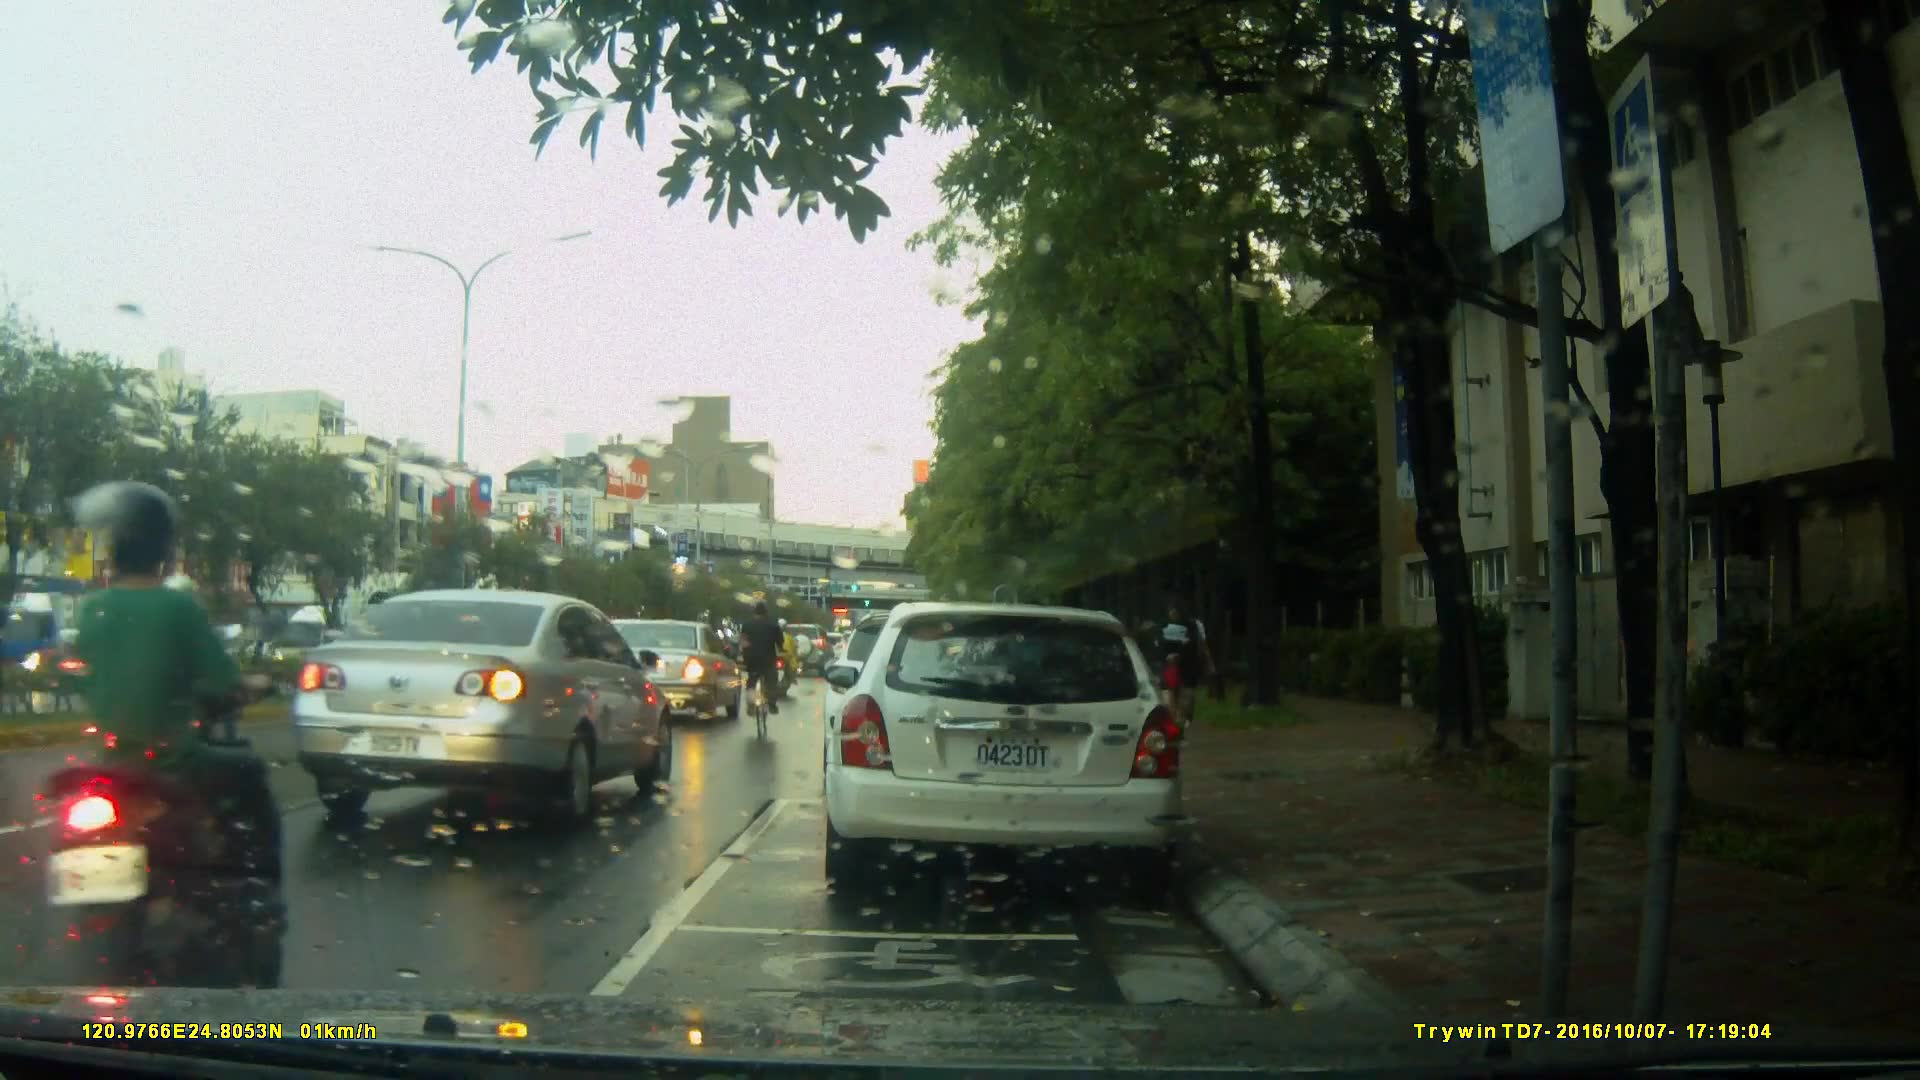pedestrian: (1157, 599, 1208, 734), (1153, 602, 1203, 725)
rider: (59, 489, 281, 1021), (737, 601, 788, 757), (770, 614, 803, 701)
vehicle: (820, 602, 1188, 898), (289, 588, 679, 832), (583, 620, 744, 729), (1, 587, 130, 699), (134, 634, 239, 689)
